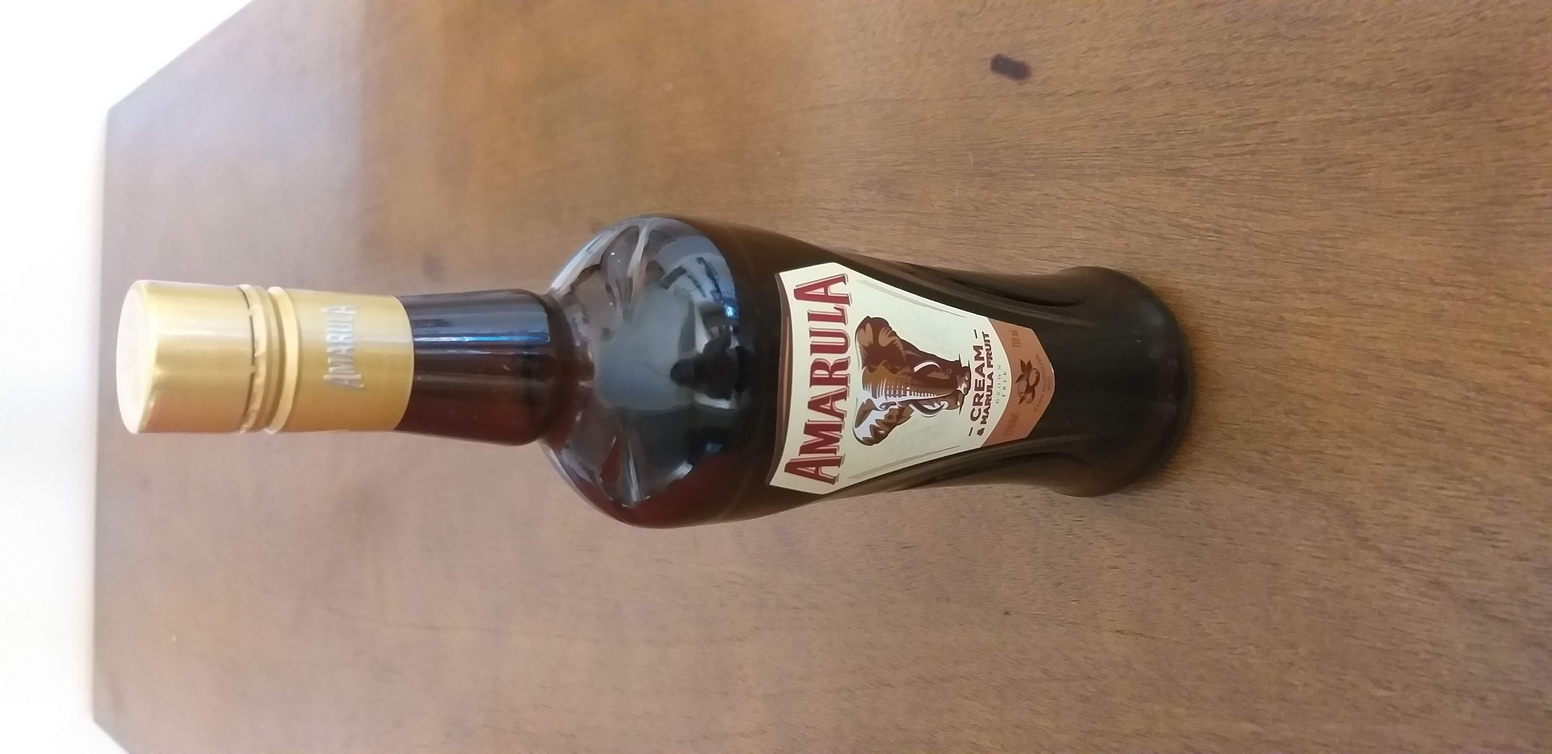bottle-glass: (110, 211, 1205, 530)
